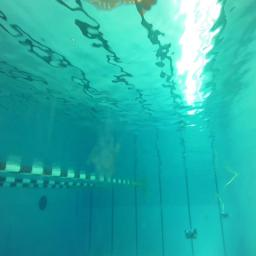Full: (220, 212, 230, 218)
front: (184, 227, 198, 239)
